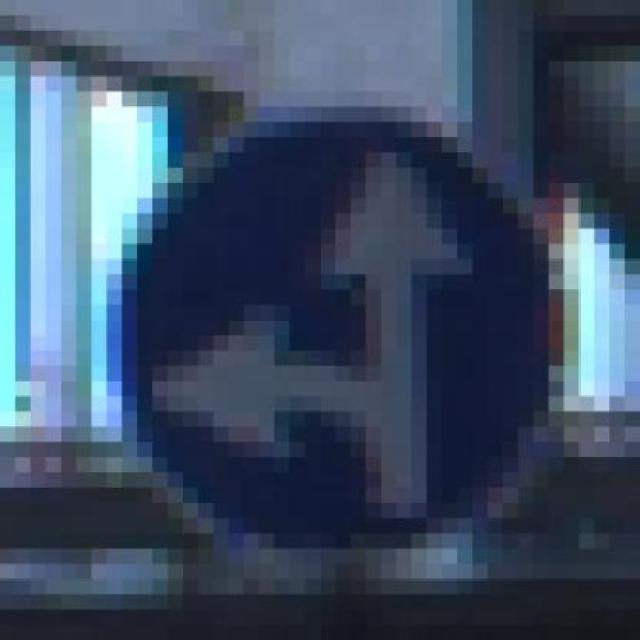Go straight or turn left: (76, 91, 579, 548)
